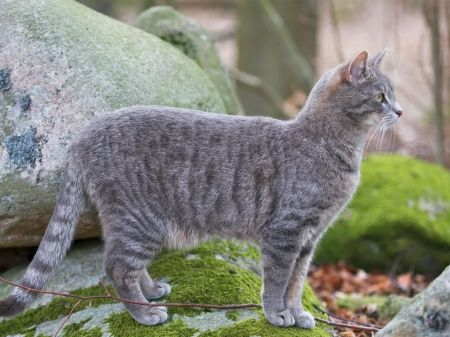Cat: (6, 47, 403, 329)
